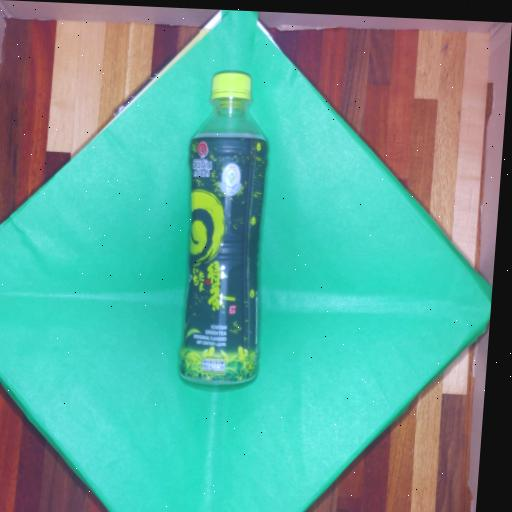bottle: (180, 72, 267, 383)
